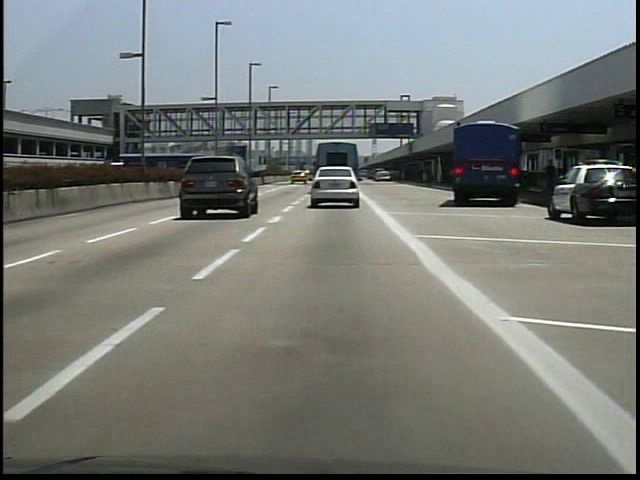person: (542, 157, 558, 191)
